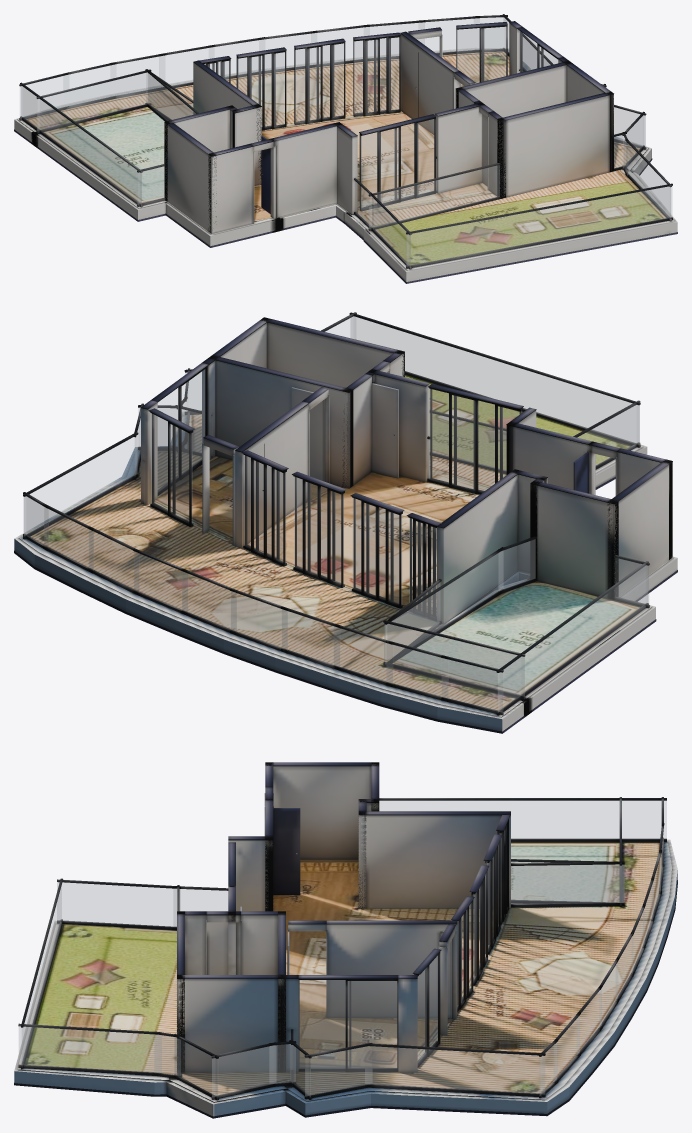
The picture shows the model from 3 angles, top to bottom: view 1: azimuth 30°, elevation 25°; view 2: azimuth 150°, elevation 25°; view 3: azimuth 270°, elevation 25°; orthographic projection. The views are drawn at different scales.
Visible parts, largest first — view 1: plan, railg28_m, glass6_m, railg5_m, railg11_m, railg1_m, glass2_m, glass3_m, glass4_m, glass1_m, railg12_m, railg27_m (+18 smaller); view 2: plan, railg28_m, glass6_m, railg11_m, railg1_m, railg21_m, railg6_m, glass1_m, glass2_m, glass4_m, glass5_m, glass3_m (+16 smaller); view 3: plan, glass5_m, railg11_m, railg21_m, railg27_m, railg22_m, railg25_m, railg6_m, railg23_m, railg30_m, railg31_m, glass4_m (+11 smaller).
Boxes of the visible parts, x1,y1,x2,y2 form: plan: (14, 14, 677, 283); railg28_m: (406, 186, 672, 265); glass6_m: (361, 119, 433, 208); railg5_m: (369, 134, 626, 228); railg11_m: (21, 86, 141, 204); railg1_m: (37, 72, 147, 130); glass2_m: (295, 43, 343, 122); glass3_m: (354, 37, 398, 114); glass4_m: (457, 27, 505, 86); glass1_m: (237, 52, 284, 127); railg12_m: (63, 64, 115, 105); railg27_m: (626, 142, 670, 218); plan: (14, 312, 677, 733); railg28_m: (351, 316, 639, 444); glass6_m: (430, 389, 519, 491); railg11_m: (498, 565, 647, 712); railg1_m: (384, 624, 524, 696); railg21_m: (24, 435, 137, 535); railg6_m: (385, 551, 502, 646); glass1_m: (353, 498, 401, 604); glass2_m: (294, 477, 343, 584); glass4_m: (151, 413, 192, 523); glass5_m: (158, 370, 204, 491); glass3_m: (244, 455, 285, 562); plan: (14, 762, 677, 1118); glass5_m: (299, 980, 396, 1068); railg11_m: (379, 801, 666, 838); railg21_m: (365, 1046, 544, 1094); railg27_m: (19, 1026, 161, 1072); railg22_m: (57, 882, 180, 926); railg25_m: (511, 864, 624, 904); railg6_m: (511, 862, 624, 902); railg23_m: (305, 1046, 371, 1095); railg30_m: (212, 1045, 275, 1096); railg31_m: (175, 1037, 217, 1097); glass4_m: (418, 956, 437, 1062).
Size of the model in its own units: 13.69 by 2.62 by 14.48.
Materials: 2 (1 with a texture image).
